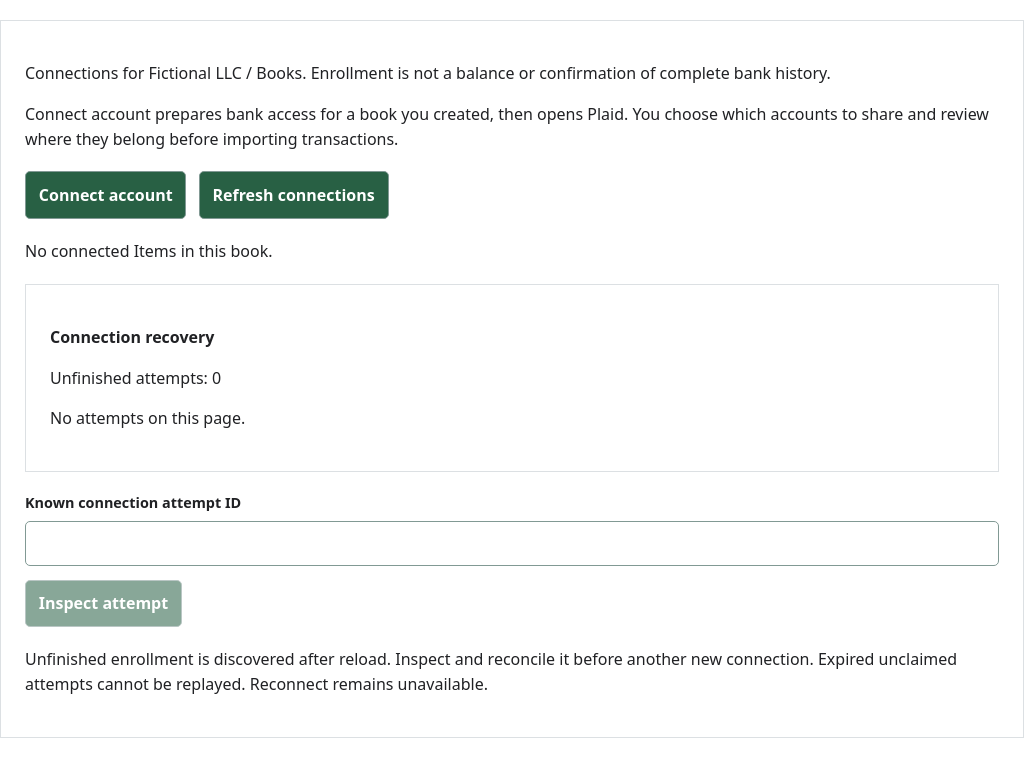
Scenario: TestConnectionsScopeAndRecovery inspects unknown exchange without retry
Check: the text "No connected Items in this book." is shown, box [25,240,272,262]
Click the button "Connect account".
click(106, 195)  # box [25,171,186,219]
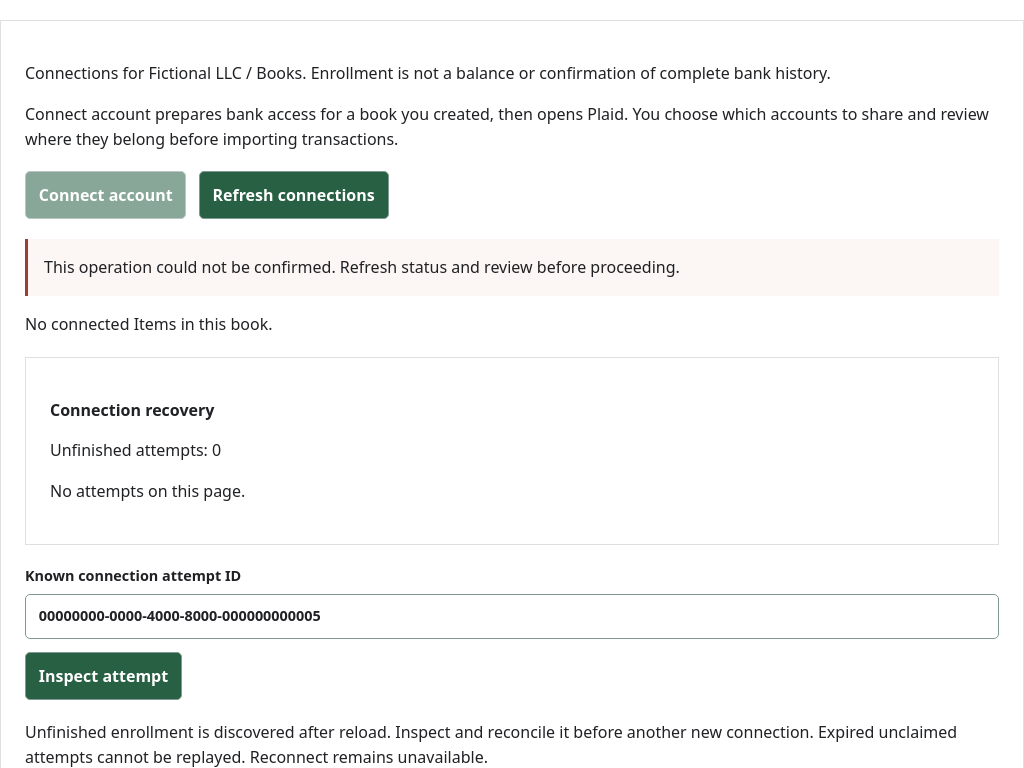
Check: the message is shown, box [25,239,999,296]
Click the button "Inspect attempt".
click(104, 676)  # box [25,652,182,700]
(page scrolled)
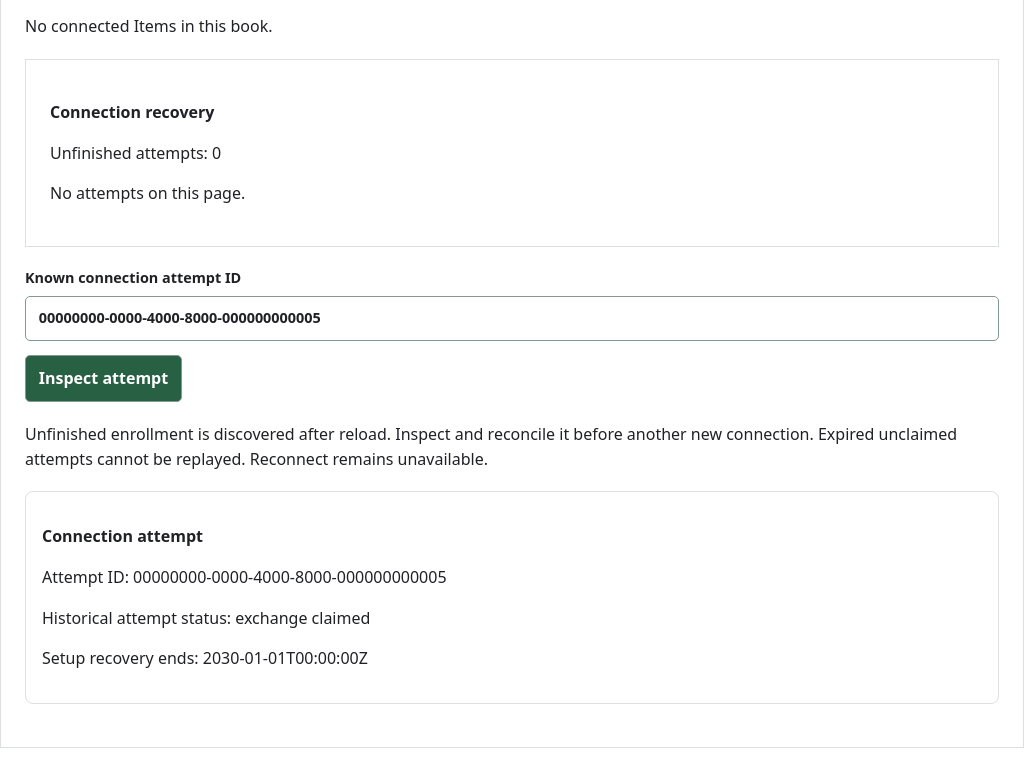
Check: the text "Historical attempt status: exchange claimed" is shown, box [42,606,370,628]
